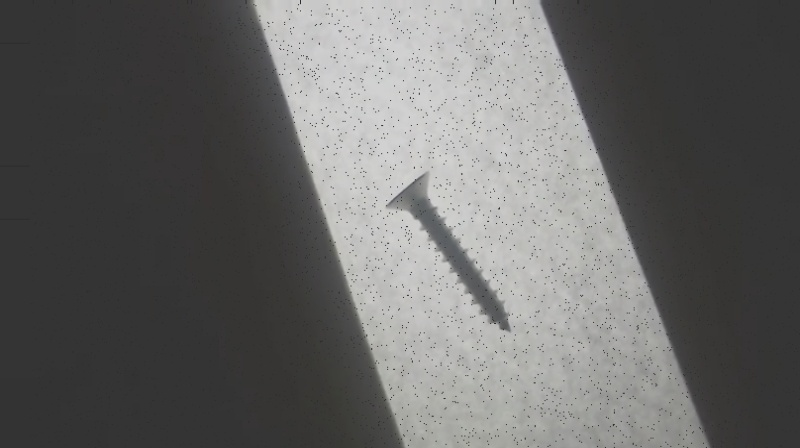S001: (380, 168, 515, 338)
